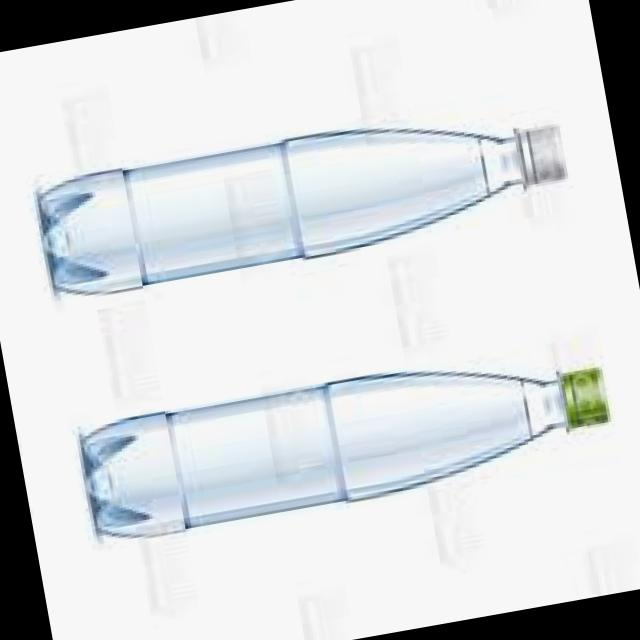bottle: (83, 369, 608, 537), (40, 127, 563, 294)
